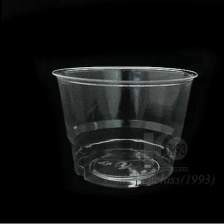glass: (48, 62, 203, 190)
